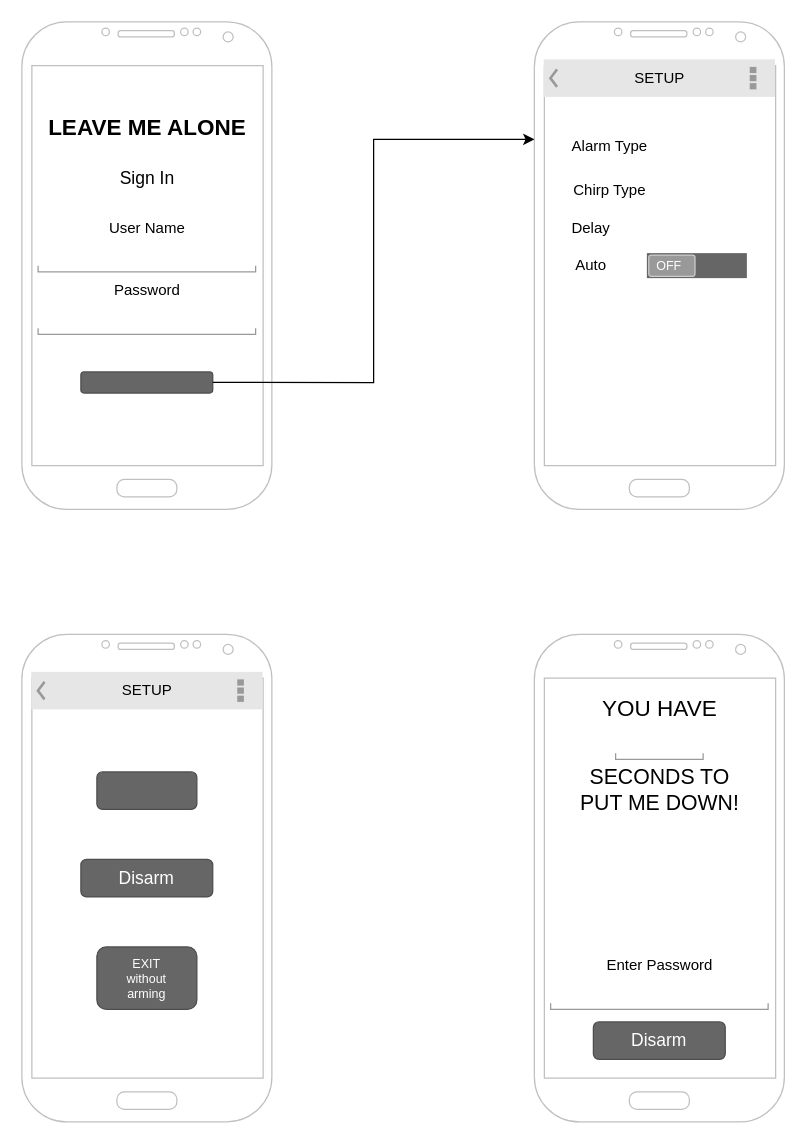
Image size: 806x1144. Some labels were removed from this diagram. The centre of each missing label's shape, as x and y in pixels:
"ARM" belongs at (x=146, y=790).
"Enter" belongs at (x=146, y=382).
